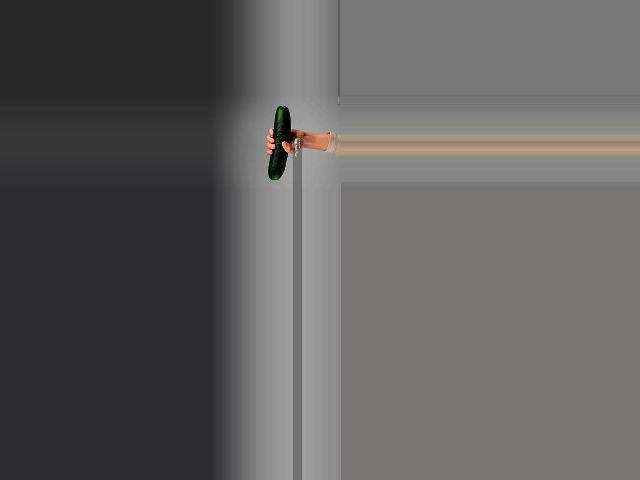cucumber: (268, 107, 290, 180)
